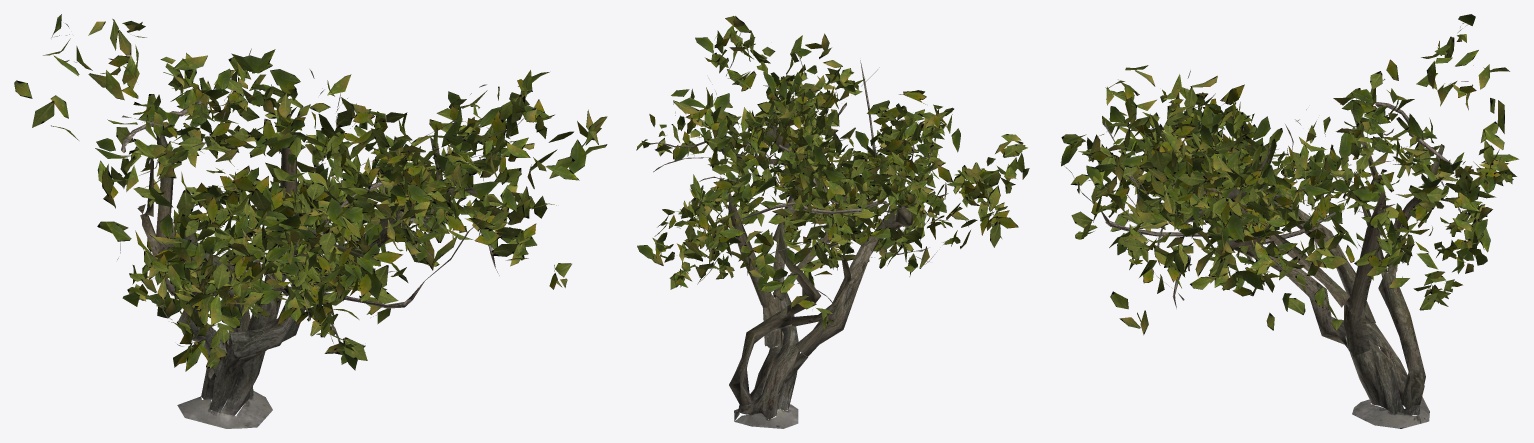
Rendered from tree_island_far.glb.
3 renders of one model, left to right at view 1: azimuth 30°, elevation 25°; view 2: azimuth 150°, elevation 25°; view 3: azimuth 270°, elevation 25°, orthographic. The views are drawn at different scales.
Visible parts, largest first — view 1: Tree_Island; view 2: Tree_Island; view 3: Tree_Island.
Part boxes in pixels (x1=…): Tree_Island: x1=14, y1=14, x2=607, y2=428; Tree_Island: x1=636, y1=16, x2=1029, y2=428; Tree_Island: x1=1060, y1=14, x2=1518, y2=428.
Bounding box in the file's own units: 3.86 × 3.4 × 4.13.
Materials: 3 (3 with a texture image).
